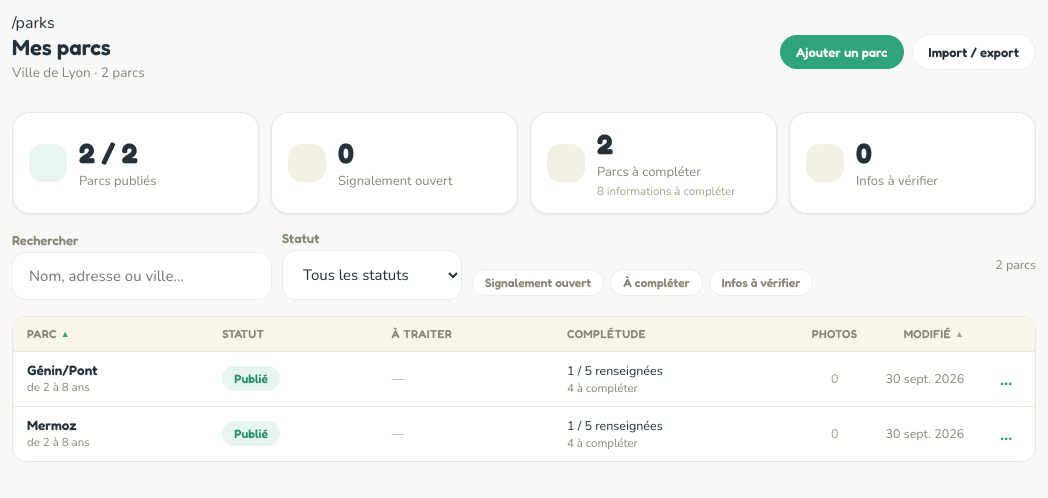
CommuneParks — Mes parcs (COLL-03B) › search matches the name, accent-insensitively; no match → filtered empty state with reset
This screenshot has width=1048, height=498.
Expected: the text "Génin/Pont" is shown, top-left (27, 362), bottom-right (98, 378)
In the search field labelled "Rechercher": (142, 276) top-left (12, 252), bottom-right (272, 300), type "genin"
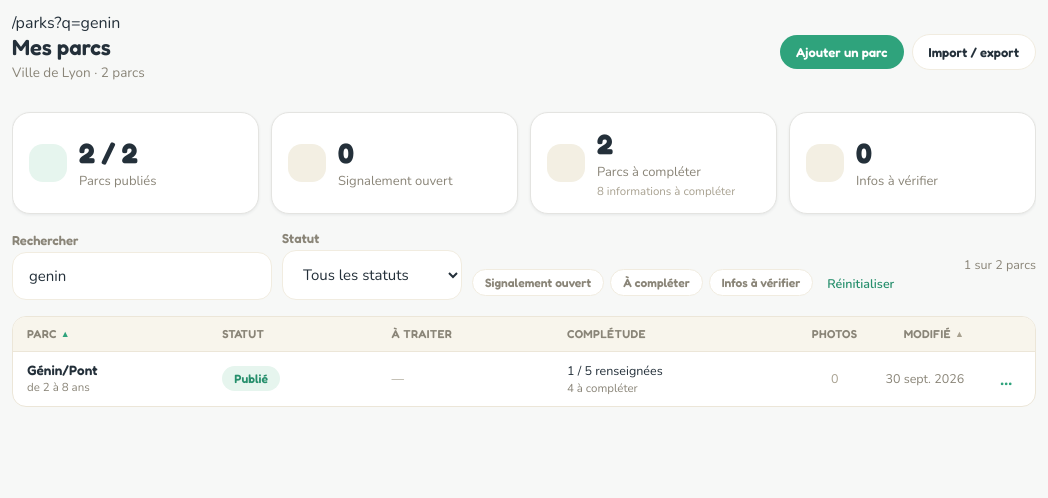
Now the button "Mermoz" is gone
Replace the text in the search field labelled "Rechercher" with "zzz": (142, 276) top-left (12, 252), bottom-right (272, 300)
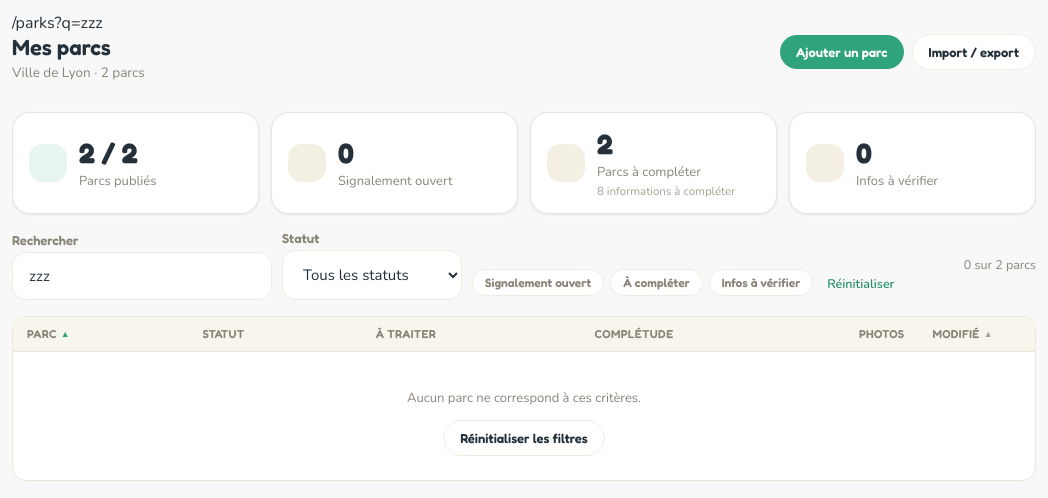
Now the text "Aucun parc ne correspond à ces critères." is shown, box top-left (407, 388), bottom-right (641, 406)
Click the button "Réinitialiser les filtres": click(524, 438) top-left (443, 420), bottom-right (605, 456)
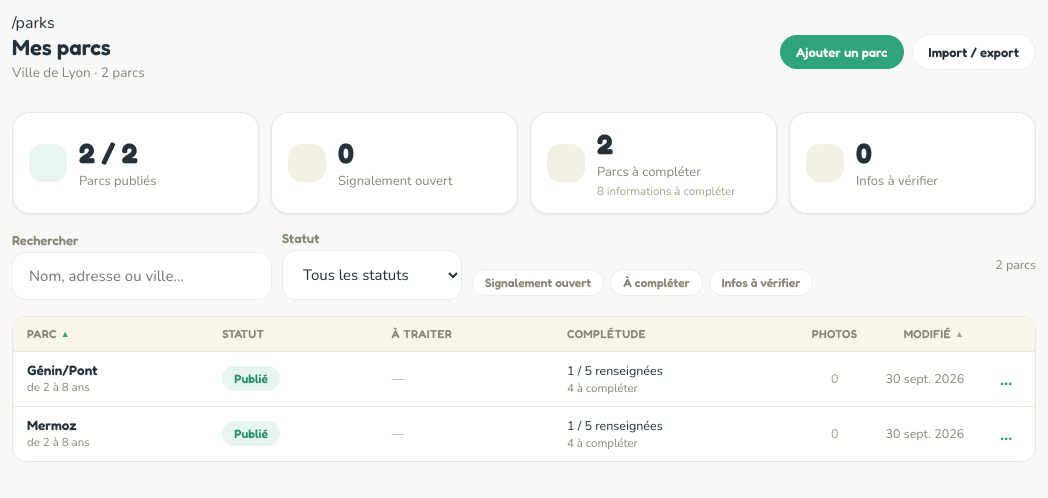
Now the text "Mermoz" is shown, box top-left (27, 417), bottom-right (76, 433)
